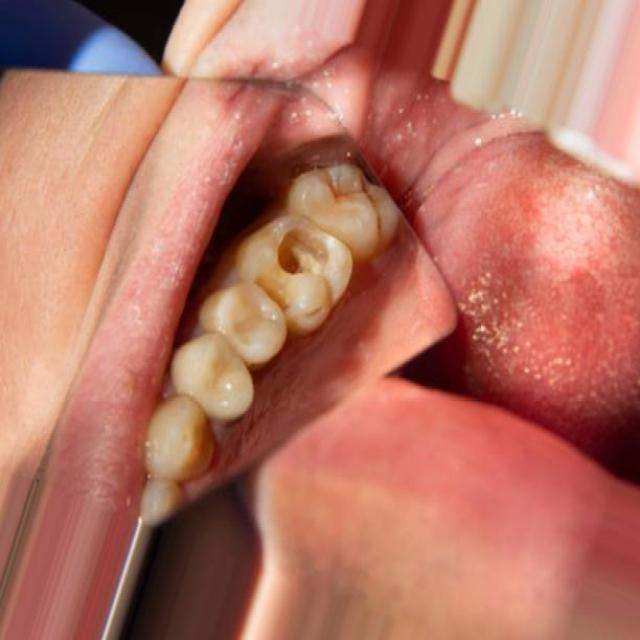caries: (249, 217, 347, 330)
